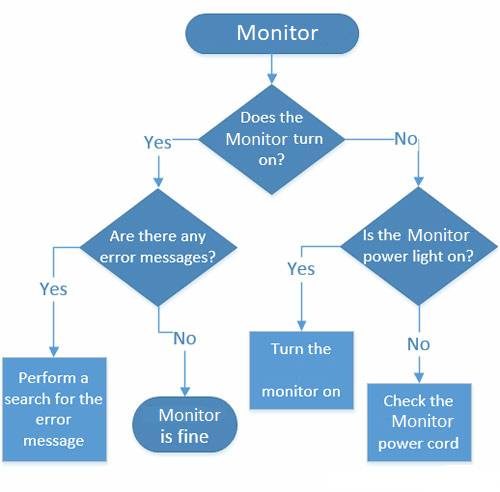arrow: (48, 244, 85, 357), (343, 136, 425, 186), (296, 244, 340, 334), (155, 305, 190, 394), (152, 136, 202, 188), (414, 305, 425, 382), (266, 53, 278, 85)
decision: (339, 186, 499, 306), (80, 188, 238, 307), (198, 83, 347, 195)
process: (1, 354, 107, 464), (365, 381, 473, 464), (248, 330, 355, 411)
terminator: (186, 11, 362, 55), (131, 395, 239, 454)
text: (1, 370, 105, 449), (225, 108, 325, 167), (375, 392, 461, 452), (361, 224, 477, 267), (101, 228, 217, 270), (259, 341, 342, 398), (155, 405, 221, 447), (236, 22, 320, 43), (284, 259, 317, 276), (39, 279, 68, 298), (392, 130, 419, 148), (143, 135, 173, 151), (170, 330, 196, 347), (405, 338, 431, 353)
